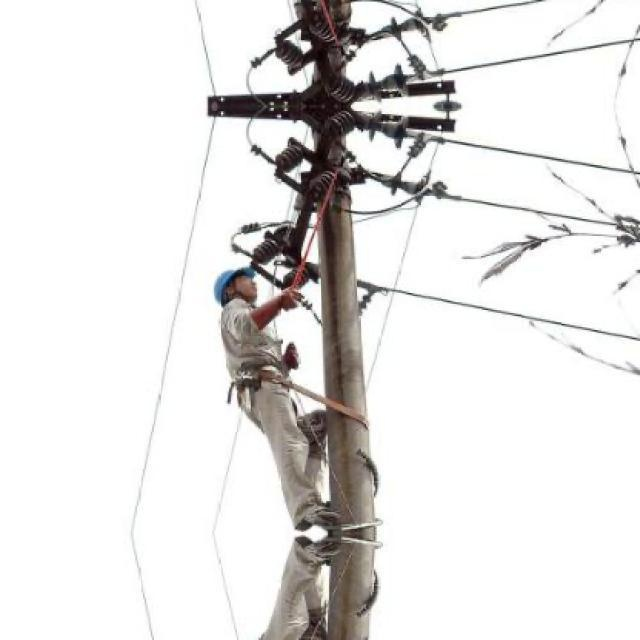Arnes_seguridad: (232, 347, 300, 417)
